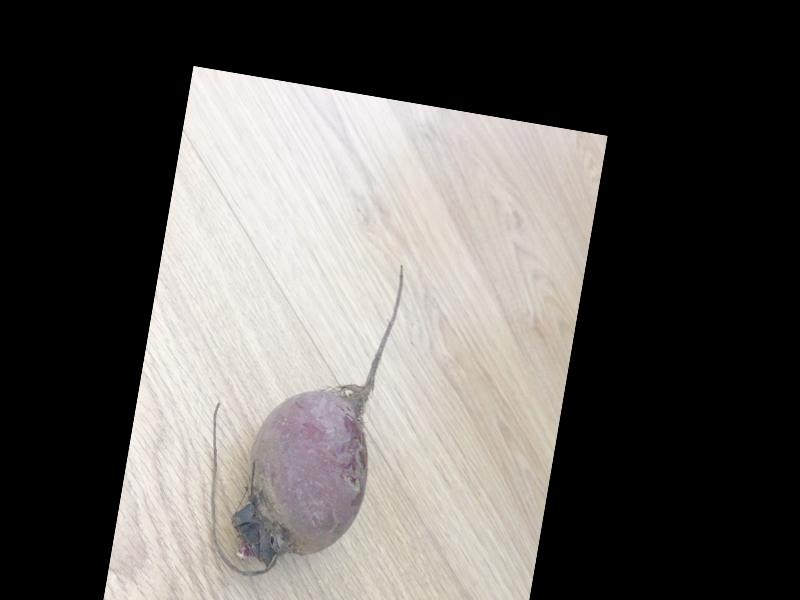Beet: (188, 238, 407, 593)
